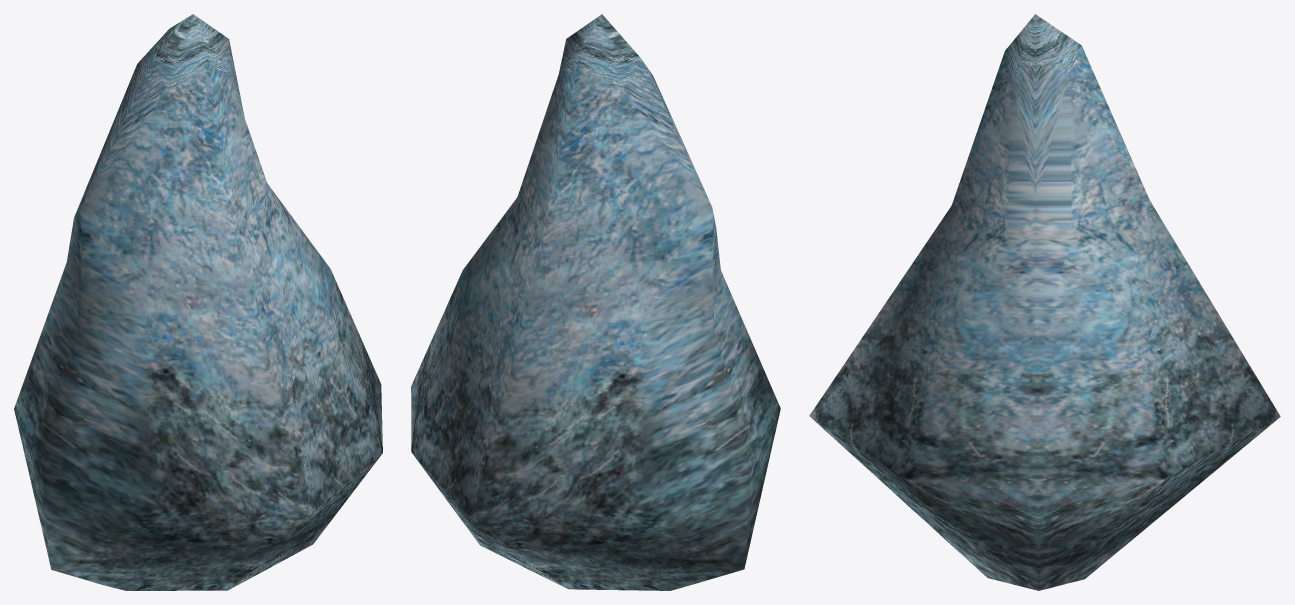
File: thm_all_cave_stalagmite_ice_b2_l1.fbx
3 views of the same model, side by side, from view 1: azimuth 30°, elevation 25°; view 2: azimuth 150°, elevation 25°; view 3: azimuth 270°, elevation 25° (orthographic). The views are drawn at different scales.
Visible parts, largest first — view 1: mesh_node; view 2: mesh_node; view 3: mesh_node.
Part boxes in pixels (<box>): mesh_node: <box>14,14,382,590</box>; mesh_node: <box>411,14,780,590</box>; mesh_node: <box>809,14,1280,590</box>.
Size of the model in its own units: 1.74 by 2.77 by 2.17.
